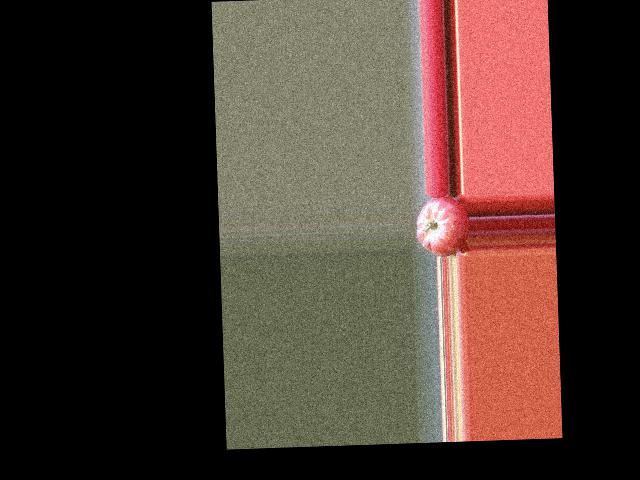tomato: (415, 196, 470, 258)
